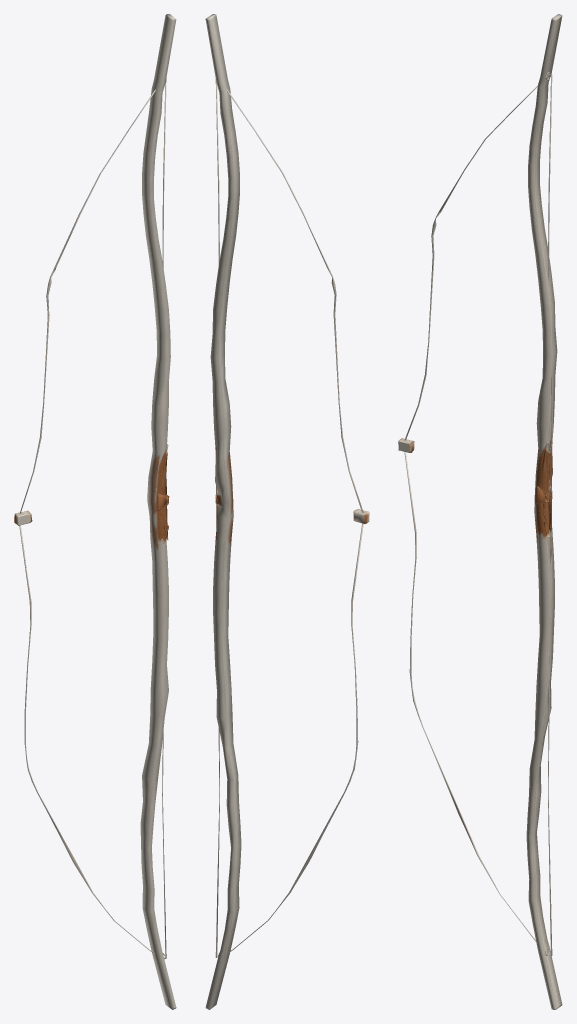
File: ashwood-bow-r2_refine.glb
The picture shows the model from 3 angles, left to right: view 1: azimuth 30°, elevation 25°; view 2: azimuth 150°, elevation 25°; view 3: azimuth 330°, elevation 25°; orthographic projection.
Size of the model in its own units: 0.1592 by 0.9497 by 0.0132.
Materials: 1 (1 with a texture image).
